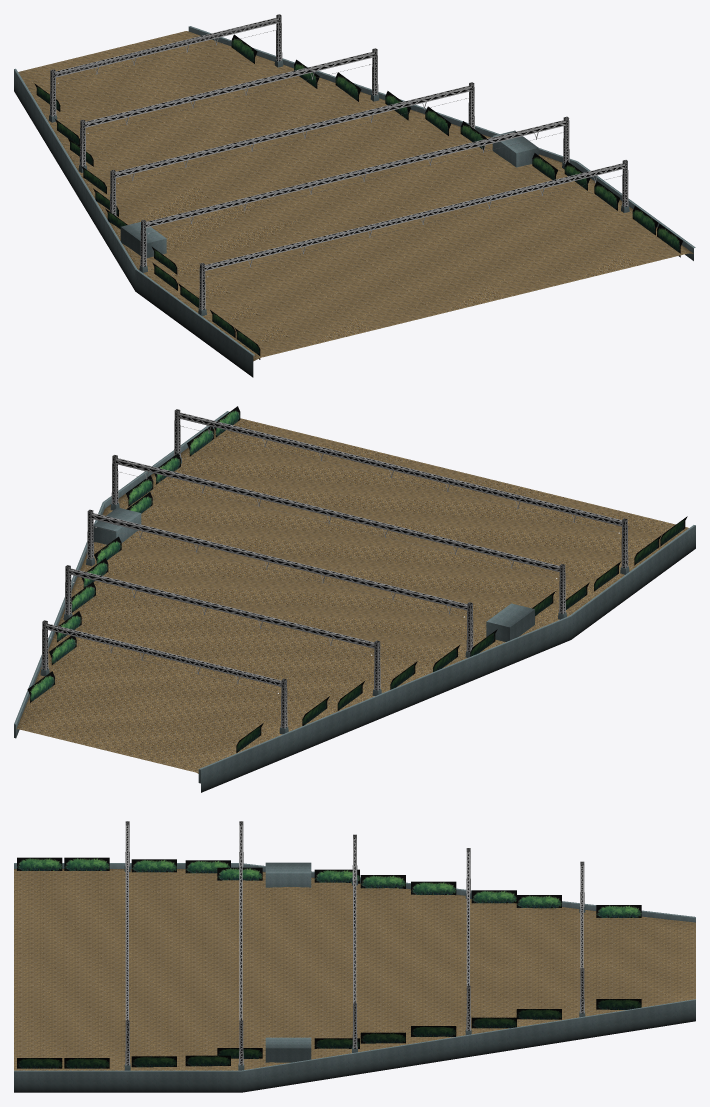
The model's file is 6_TO_9_JARI.glb.
3 views of the same model, one above another, from view 1: azimuth 30°, elevation 25°; view 2: azimuth 150°, elevation 25°; view 3: azimuth 270°, elevation 25° (orthographic). The views are drawn at different scales.
Visible parts, largest first — view 1: obj13; view 2: obj13; view 3: obj13.
Boxes of the visible parts, x1,y1,x2,y2 form: obj13: (14, 14, 695, 377); obj13: (14, 406, 695, 792); obj13: (14, 821, 695, 1092).
Size of the model in its own units: 217 by 32.13 by 300.
7 materials, 6 textured.
